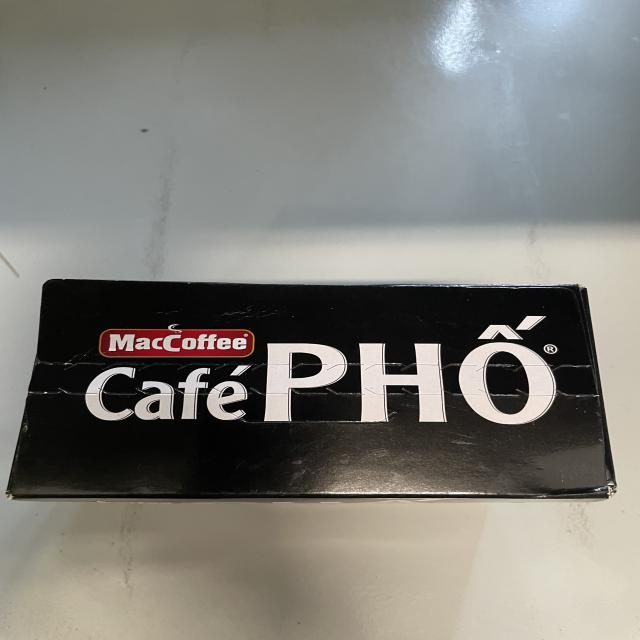object_name: (26, 279, 598, 496)
